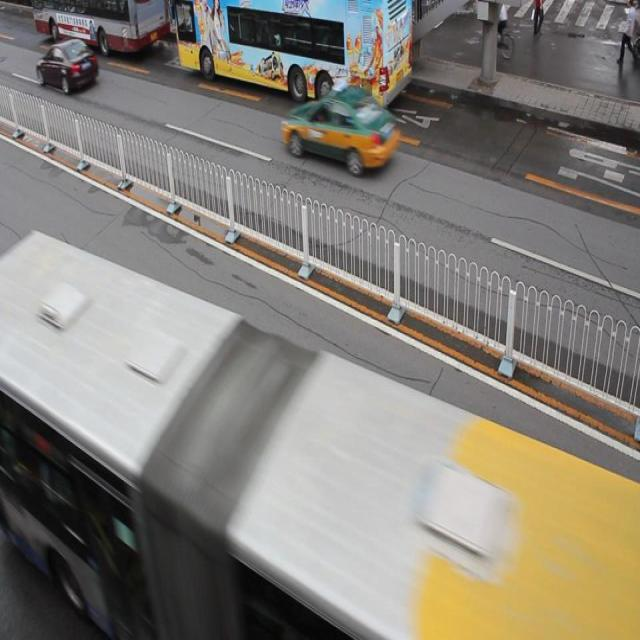car: (282, 81, 399, 174), (36, 38, 100, 94)
van: (0, 230, 640, 640), (174, 1, 411, 110), (32, 1, 169, 52)
